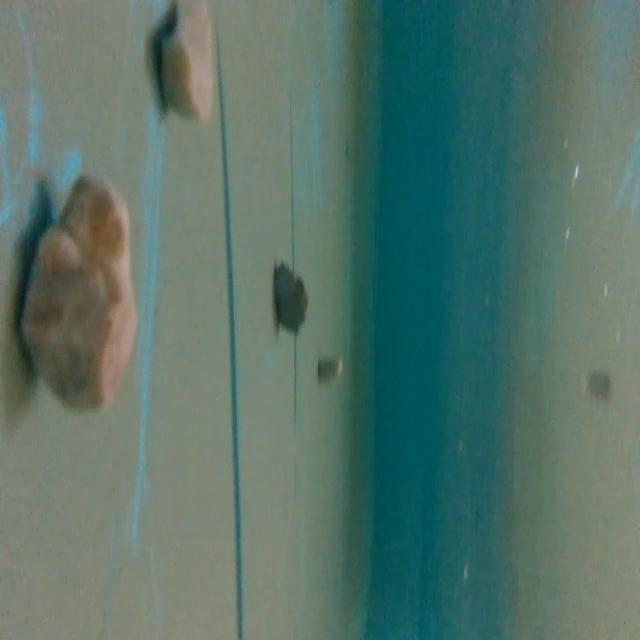rock: (19, 170, 139, 418), (157, 0, 221, 132), (271, 256, 313, 338), (311, 356, 349, 385)
